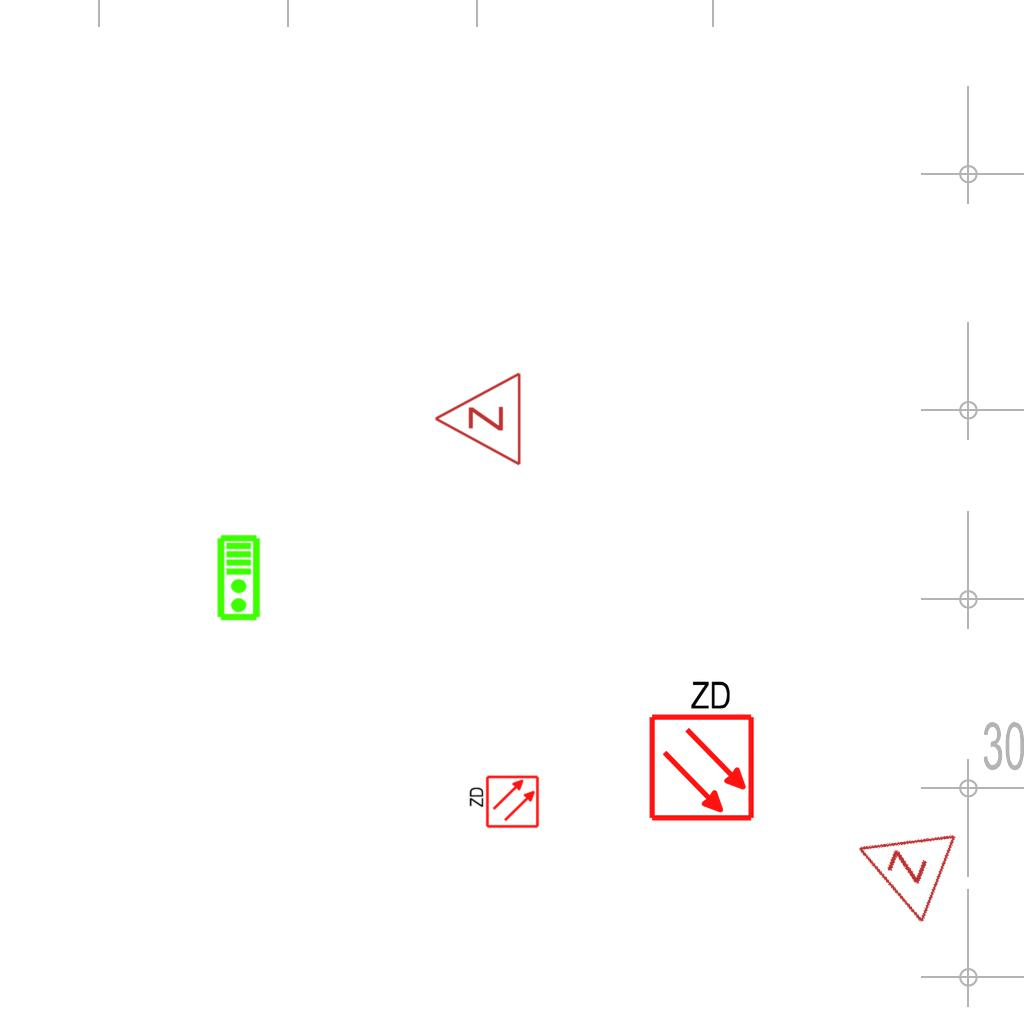Gegensprechanlage_mit_Video: (216, 534, 263, 622)
ZD_Melder_in_Zwischendecke_mit_Revisionsoeffnung_mind_40_x_40_cm: (643, 674, 757, 823), (466, 774, 540, 831)
Zimmersignalleuchte: (834, 801, 964, 929), (428, 371, 528, 469)
